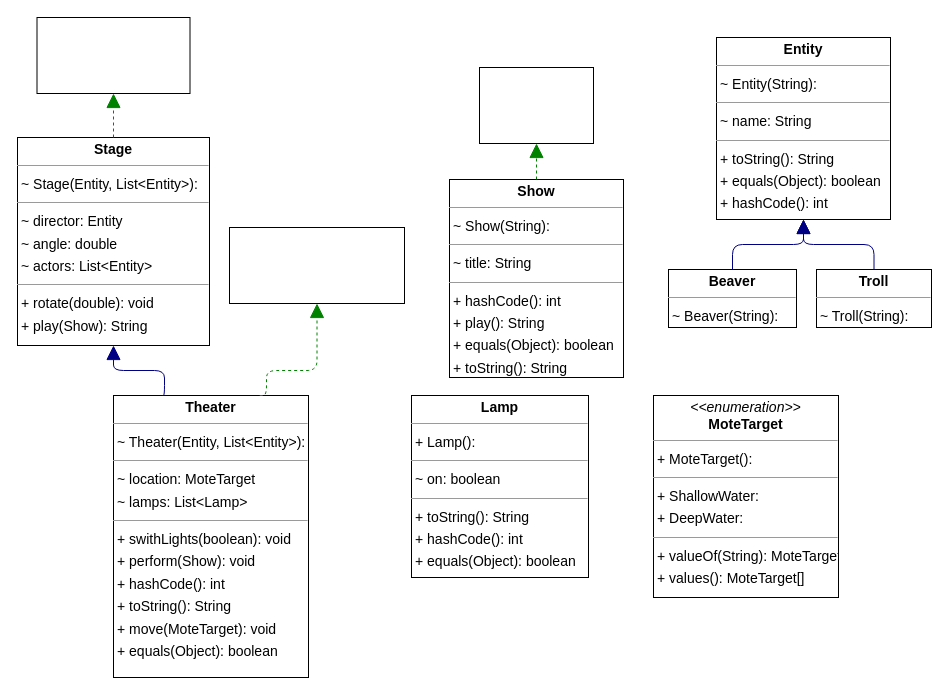
Image size: 949x695. Some labels were removed from this diagram. The shapes that lost their labels are listed below. From the top down, each one's box as (x1, y1, x2, y2) in pixels, then its label:
(36, 16, 190, 94): <<interface>> Rotatable + rotate(double): void
(478, 66, 594, 144): <<interface>> Playable + play(): String
(228, 226, 404, 304): <<interface>> Movable + move(MoteTarget): void
